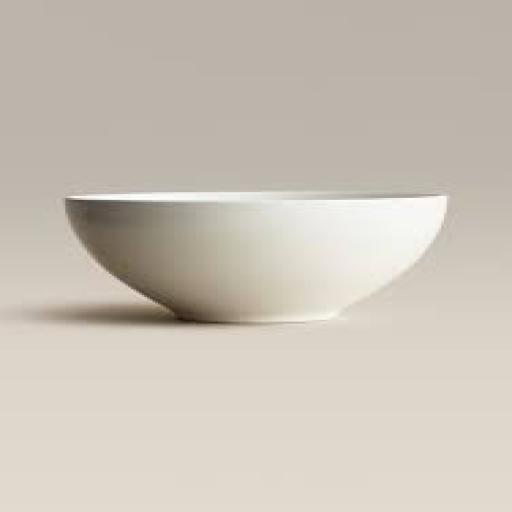Bowl: (68, 190, 447, 324)
